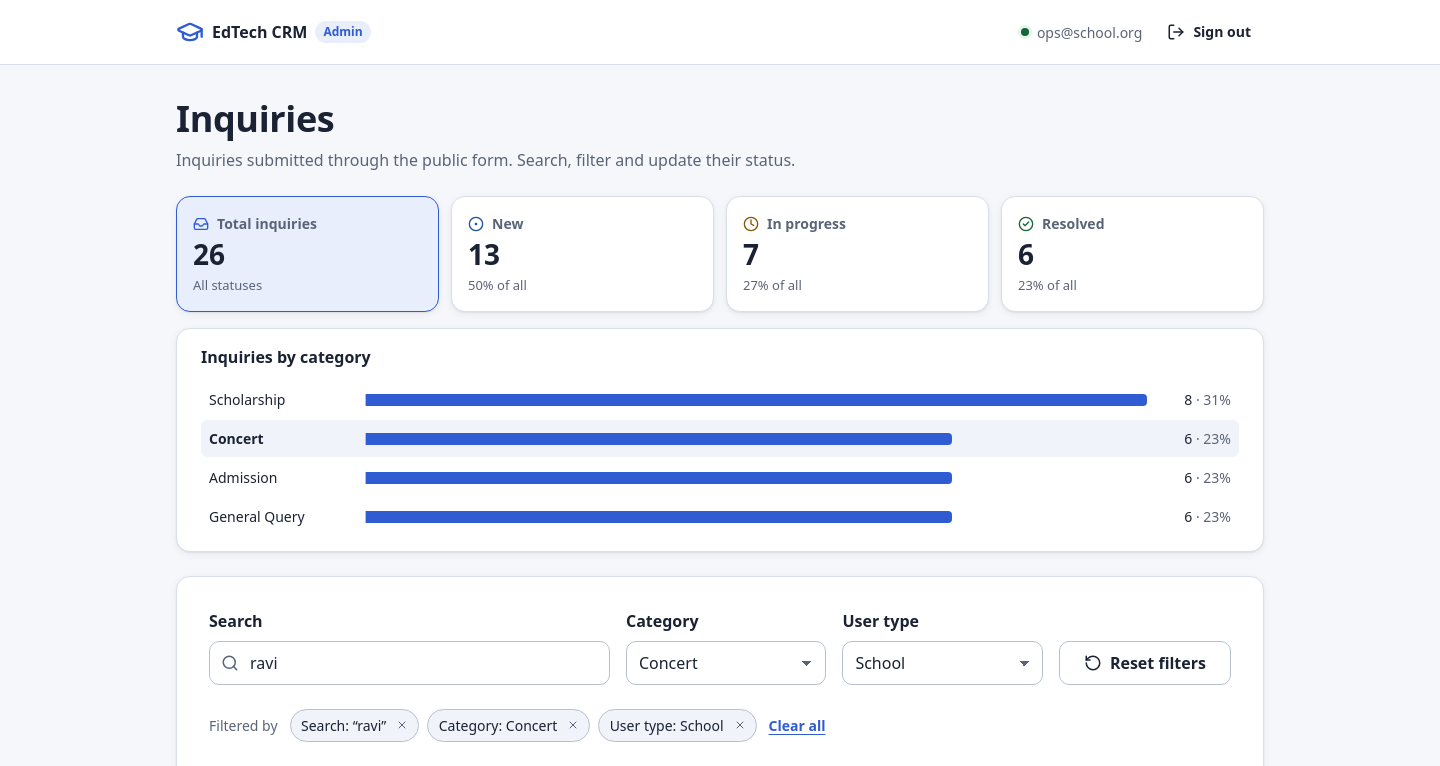
filters and search (sent to the API) › clears every filter and the search with Reset filters
Click the button "Reset filters" at (1145, 663), box [1059,641,1231,685]
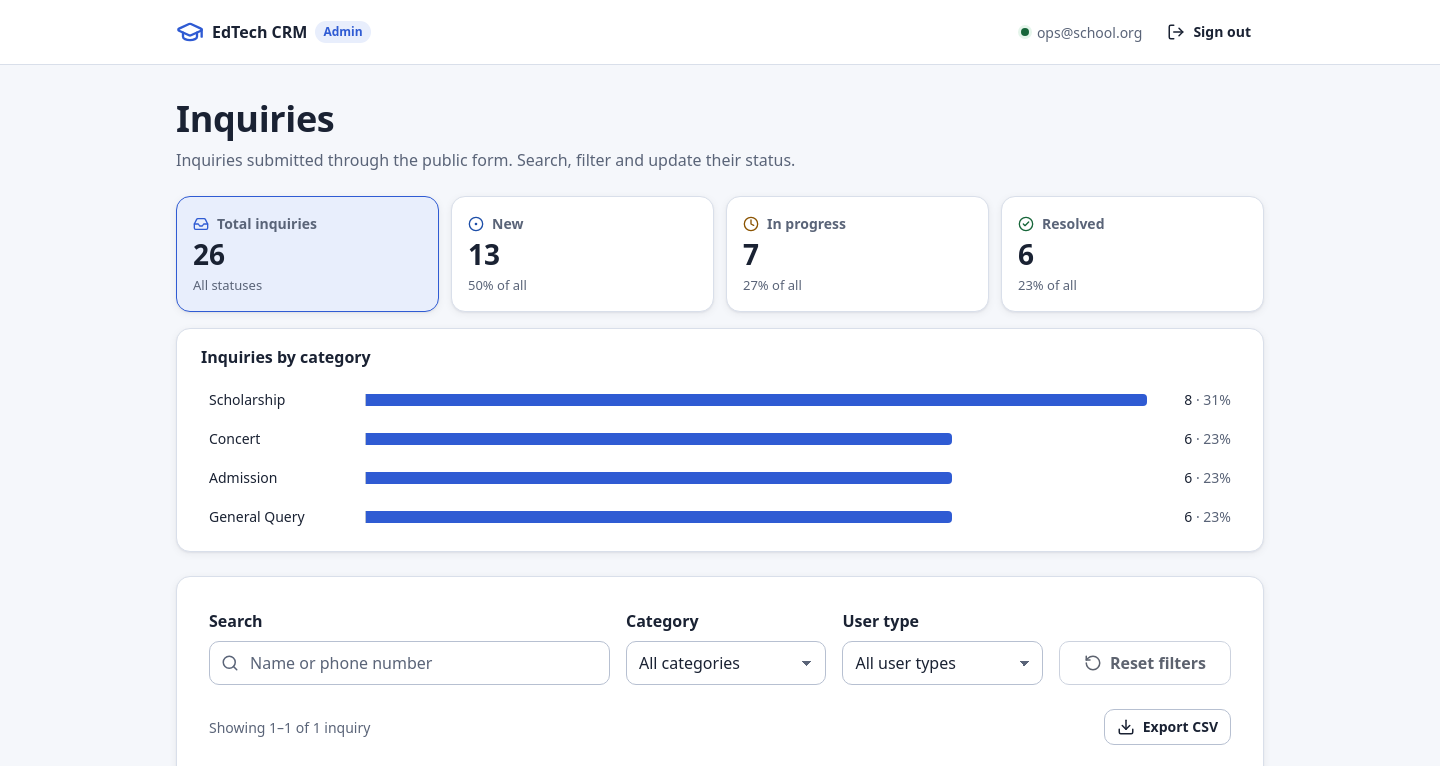
Expected: the search field labelled "Search" is empty, [209,641,610,685]
Expected: the button "Reset filters" is disabled, [1059,641,1231,685]
